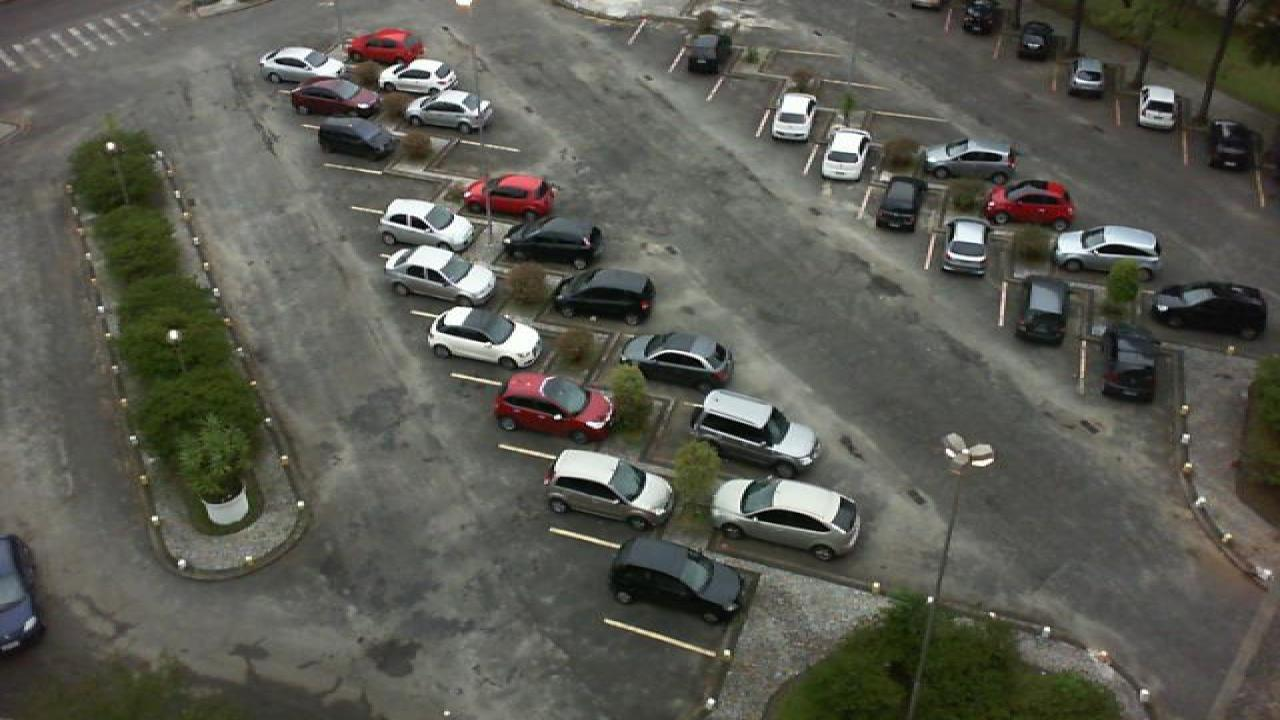Car: (706, 472, 864, 562), (606, 534, 748, 626), (538, 446, 674, 534), (690, 386, 820, 477), (492, 371, 618, 443), (1148, 279, 1270, 341), (426, 305, 544, 369), (616, 331, 738, 390), (384, 245, 500, 307), (550, 267, 658, 326), (1052, 222, 1166, 274), (502, 215, 604, 271), (376, 198, 476, 253), (980, 180, 1076, 232), (1100, 324, 1162, 402), (462, 173, 558, 219), (1014, 274, 1074, 346), (922, 136, 1018, 180), (406, 89, 494, 135), (314, 114, 398, 160), (936, 216, 998, 277), (290, 77, 382, 118), (256, 45, 348, 85), (872, 174, 932, 234), (380, 57, 460, 97), (1208, 119, 1264, 172), (346, 27, 426, 64), (818, 128, 872, 182), (768, 91, 820, 142), (682, 30, 734, 76), (1136, 84, 1180, 130), (1066, 56, 1108, 98), (1014, 19, 1056, 61), (958, 0, 1000, 36)
